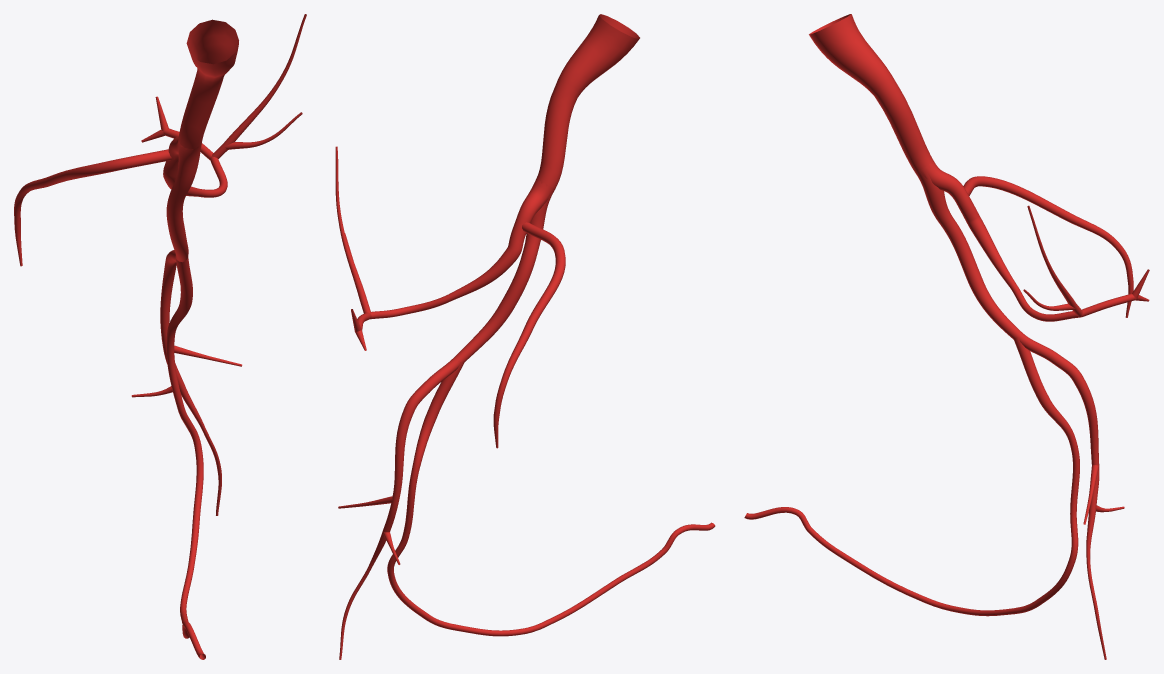
The model's file is circulatorio-internal-iliac-vein-l.glb.
3 views of the same model, side by side, from view 1: azimuth 30°, elevation 25°; view 2: azimuth 150°, elevation 25°; view 3: azimuth 270°, elevation 25° (orthographic). The views are drawn at different scales.
Parts seen in each view (by area): view 1: Inferior gluteal veins.l, Internal iliac vein.l, Internal pudendal vein.l, Superior gluteal veins.l, Lateral sacral veins.l; view 2: Internal iliac vein.l, Inferior gluteal veins.l, Internal pudendal vein.l, Superior gluteal veins.l, Lateral sacral veins.l; view 3: Inferior gluteal veins.l, Internal iliac vein.l, Internal pudendal vein.l, Superior gluteal veins.l, Lateral sacral veins.l.
Boxes of the visible parts, <box> form: Inferior gluteal veins.l: <box>131,143,242,515</box>; Internal iliac vein.l: <box>178,19,238,149</box>; Internal pudendal vein.l: <box>166,255,205,659</box>; Superior gluteal veins.l: <box>141,14,306,197</box>; Lateral sacral veins.l: <box>14,149,171,266</box>; Internal iliac vein.l: <box>536,14,639,188</box>; Inferior gluteal veins.l: <box>338,180,555,659</box>; Internal pudendal vein.l: <box>387,362,715,636</box>; Superior gluteal veins.l: <box>335,146,553,350</box>; Lateral sacral veins.l: <box>493,222,565,448</box>; Inferior gluteal veins.l: <box>915,161,1124,659</box>; Internal iliac vein.l: <box>809,14,933,171</box>; Internal pudendal vein.l: <box>744,337,1079,616</box>; Superior gluteal veins.l: <box>915,161,1149,321</box>; Lateral sacral veins.l: <box>963,176,1133,317</box>.
Bounding box in the file's own units: 0.0746 × 0.1741 × 0.1099.
